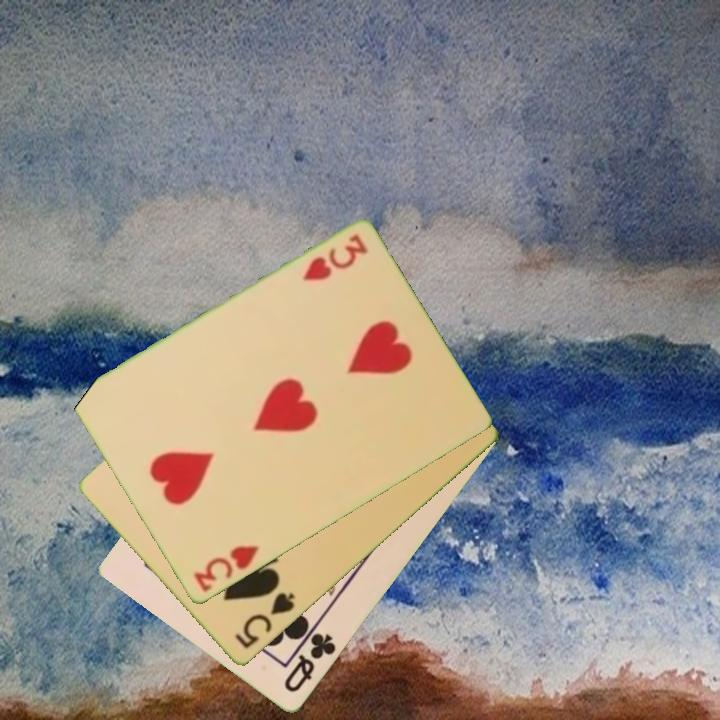3h: (299, 230, 371, 285), (190, 542, 262, 596)
5s: (231, 589, 298, 653)
Qc: (280, 629, 339, 696)
